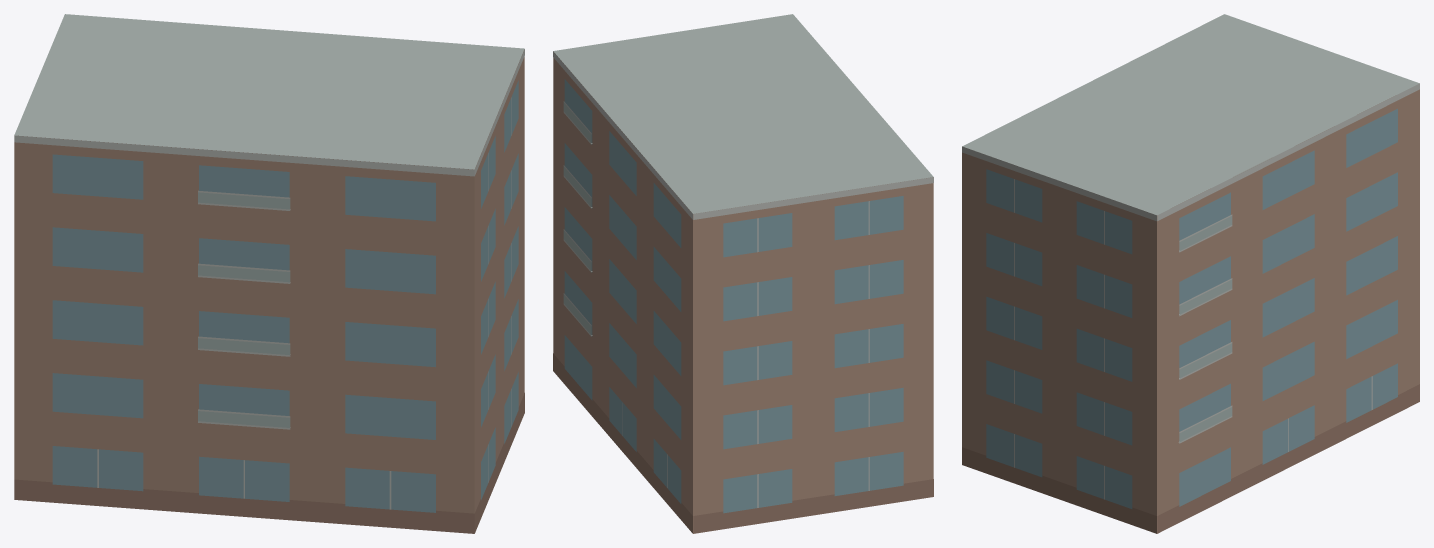
File: survey-upis-32693107.glb
3 views of the same model, side by side, from view 1: azimuth 30°, elevation 25°; view 2: azimuth 150°, elevation 25°; view 3: azimuth 270°, elevation 25° (orthographic). The views are drawn at different scales.
Visible parts, largest first — view 1: survey-upis-32693107.tmp; view 2: survey-upis-32693107.tmp; view 3: survey-upis-32693107.tmp.
Part boxes in pixels (x1=…): survey-upis-32693107.tmp: x1=14, y1=14, x2=524, y2=533; survey-upis-32693107.tmp: x1=553, y1=14, x2=933, y2=533; survey-upis-32693107.tmp: x1=962, y1=14, x2=1419, y2=533.
Bounding box in the file's own units: 17.36 × 12.8 × 16.68.
